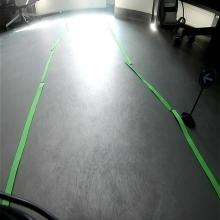left: (198, 65, 217, 91)
